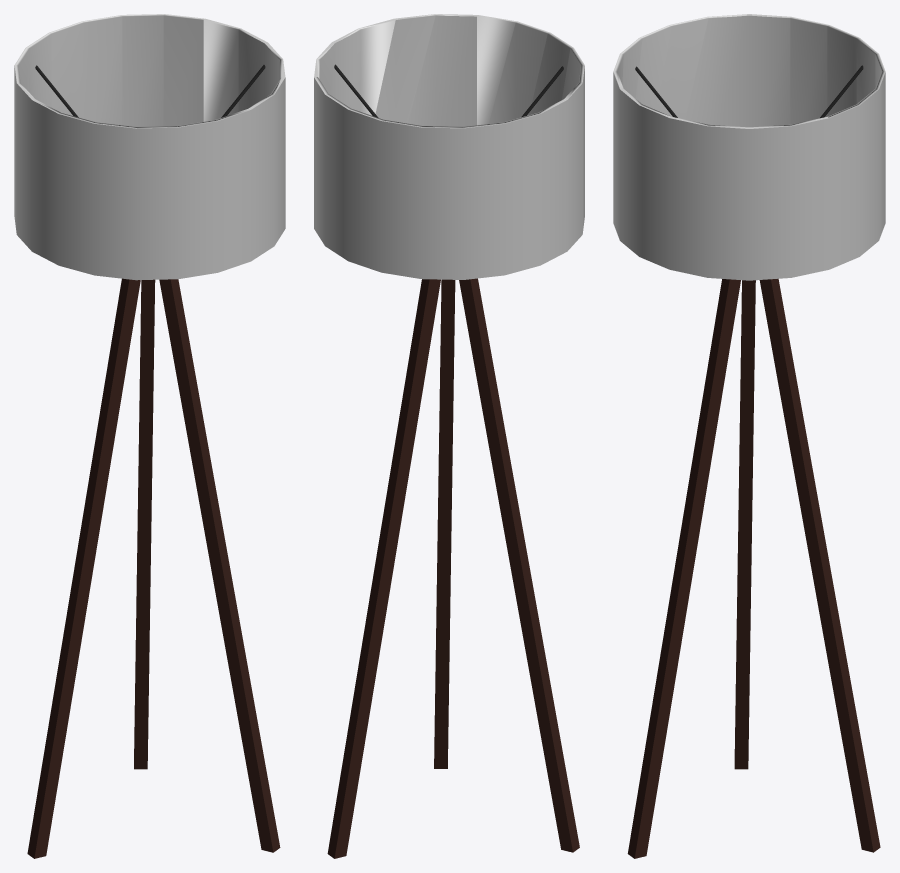
Rendered from Lamp_UV.obj.
3 views of the same model, side by side, from view 1: azimuth 30°, elevation 25°; view 2: azimuth 150°, elevation 25°; view 3: azimuth 270°, elevation 25° (orthographic).
Parts seen in each view (by area): view 1: Lamp1 LampShade, Lamp1 Foot3, Lamp1 Foot1, Lamp1 Foot2; view 2: Lamp1 LampShade, Lamp1 Foot2, Lamp1 Foot3, Lamp1 Foot1; view 3: Lamp1 LampShade, Lamp1 Foot1, Lamp1 Foot2, Lamp1 Foot3.
Boxes of the visible parts, box(x1,y1,x2,y2) form: Lamp1 LampShade: box(14, 14, 285, 280); Lamp1 Foot3: box(27, 278, 140, 858); Lamp1 Foot1: box(159, 279, 280, 852); Lamp1 Foot2: box(134, 279, 155, 769); Lamp1 LampShade: box(314, 14, 584, 279); Lamp1 Foot2: box(327, 279, 440, 858); Lamp1 Foot3: box(459, 278, 579, 852); Lamp1 Foot1: box(434, 279, 455, 768); Lamp1 LampShade: box(613, 14, 885, 280); Lamp1 Foot1: box(627, 279, 740, 858); Lamp1 Foot2: box(759, 278, 880, 852); Lamp1 Foot3: box(734, 280, 755, 769).
Bounding box in the file's own units: 62.28 × 186 × 60.96.
